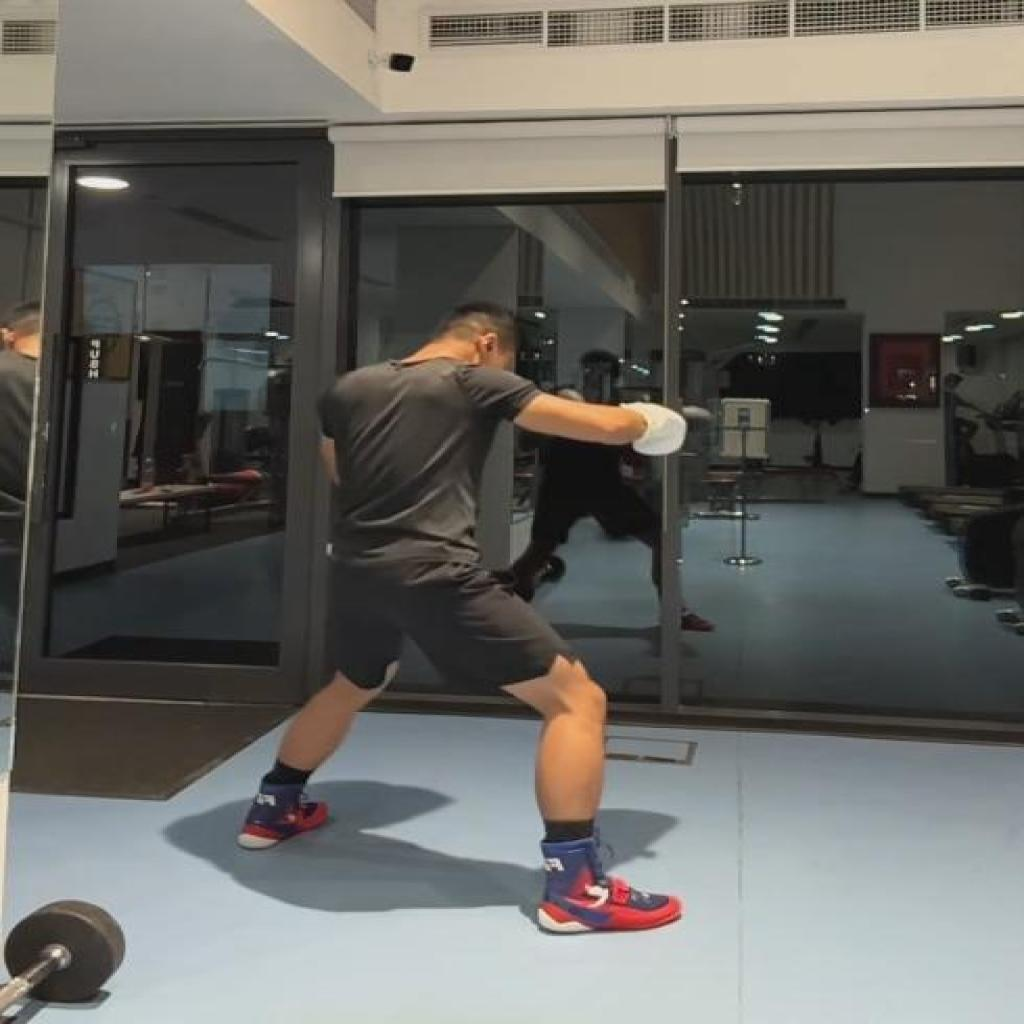hook: (236, 298, 696, 939)
